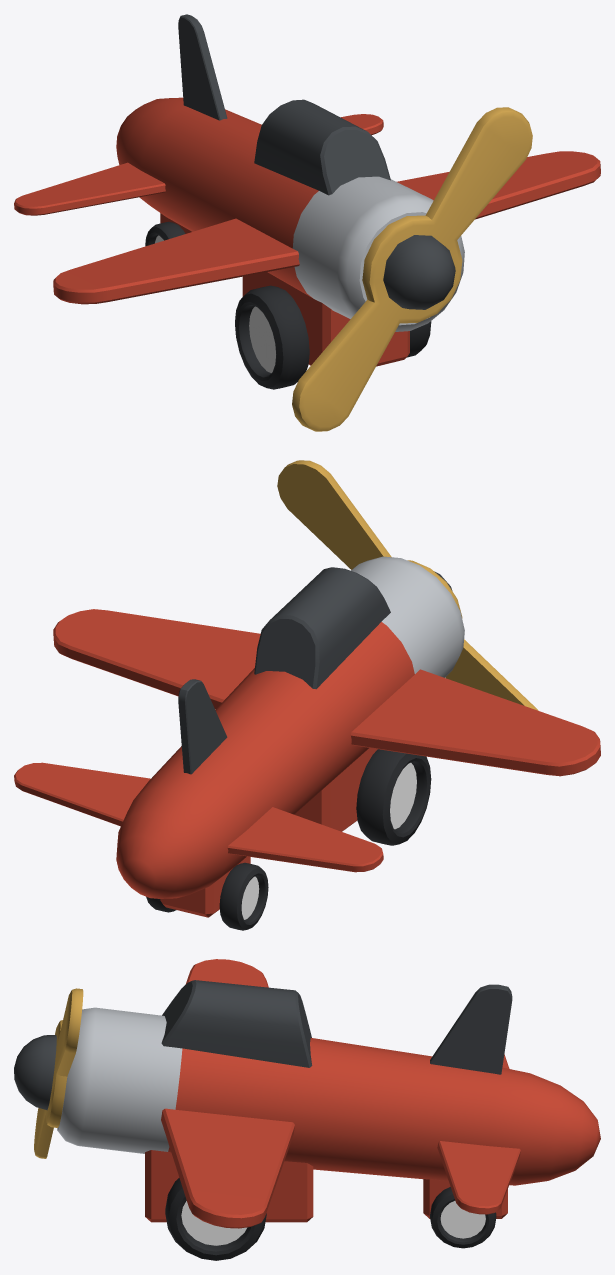
File: AEREOPLANO.fbx
The picture shows the model from 3 angles, top to bottom: view 1: azimuth 30°, elevation 25°; view 2: azimuth 150°, elevation 25°; view 3: azimuth 270°, elevation 25°; orthographic projection. The views are drawn at different scales.
Visible parts, largest first — view 1: AEREOPLANO; view 2: AEREOPLANO; view 3: AEREOPLANO.
Boxes of the visible parts, box(x1,y1,x2,y2) form: AEREOPLANO: box(14, 14, 600, 431); AEREOPLANO: box(14, 460, 600, 930); AEREOPLANO: box(14, 959, 600, 1260).
Size of the model in its own units: 3.99 by 2.05 by 3.85.
